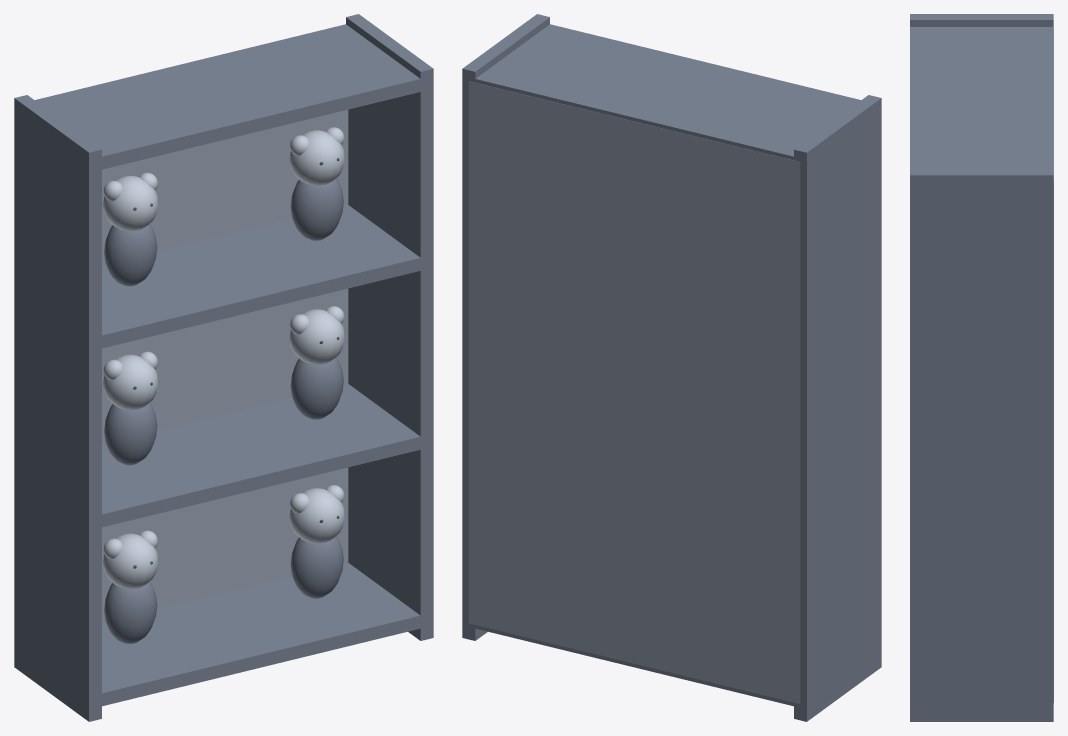
File: doll-shelf-lite.glb
3 views of the same model, side by side, from view 1: azimuth 30°, elevation 25°; view 2: azimuth 150°, elevation 25°; view 3: azimuth 270°, elevation 25° (orthographic). The views are drawn at different scales.
Visible parts, largest first — view 1: body, soft, light, accent; view 2: soft, body; view 3: body, soft.
Boxes of the visible parts, <box> form: body: <box>14,14,433,721</box>; soft: <box>102,109,348,622</box>; light: <box>103,127,344,588</box>; accent: <box>104,178,343,643</box>; soft: <box>468,81,800,703</box>; body: <box>462,14,881,721</box>; body: <box>910,14,1053,721</box>; soft: <box>1053,27,1053,702</box>.
Bounding box in the file's own units: 0.665 × 1.05 × 0.2505.
